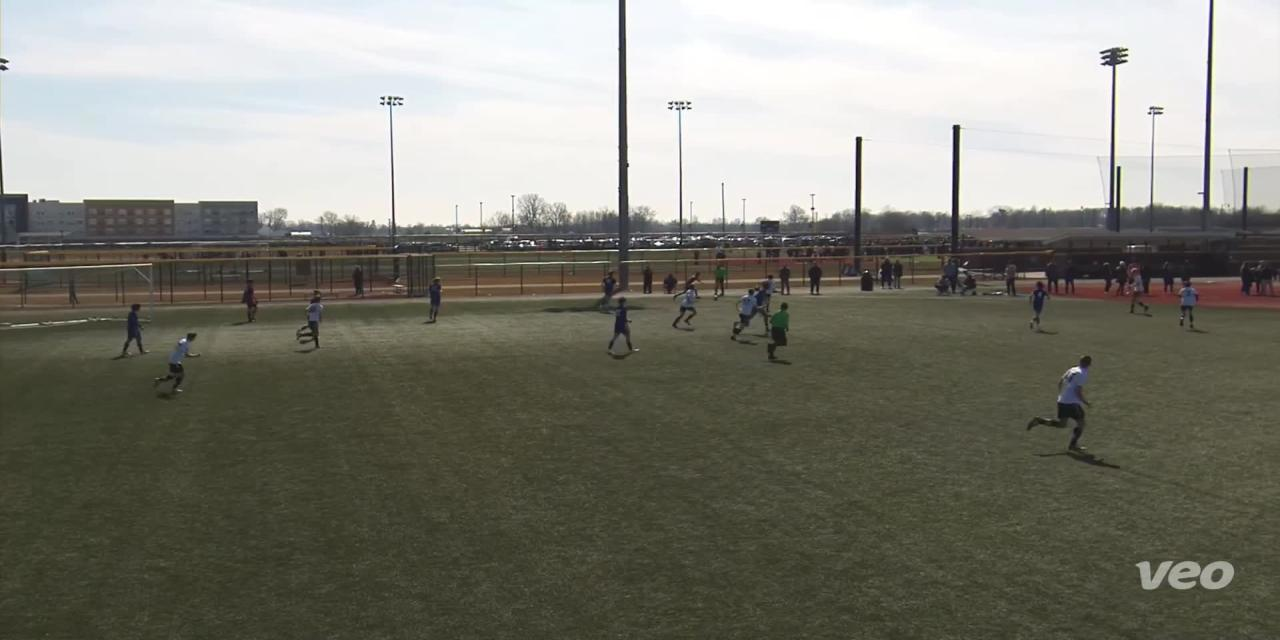goal: (0, 254, 175, 332)
sports ball: (708, 291, 721, 304)
